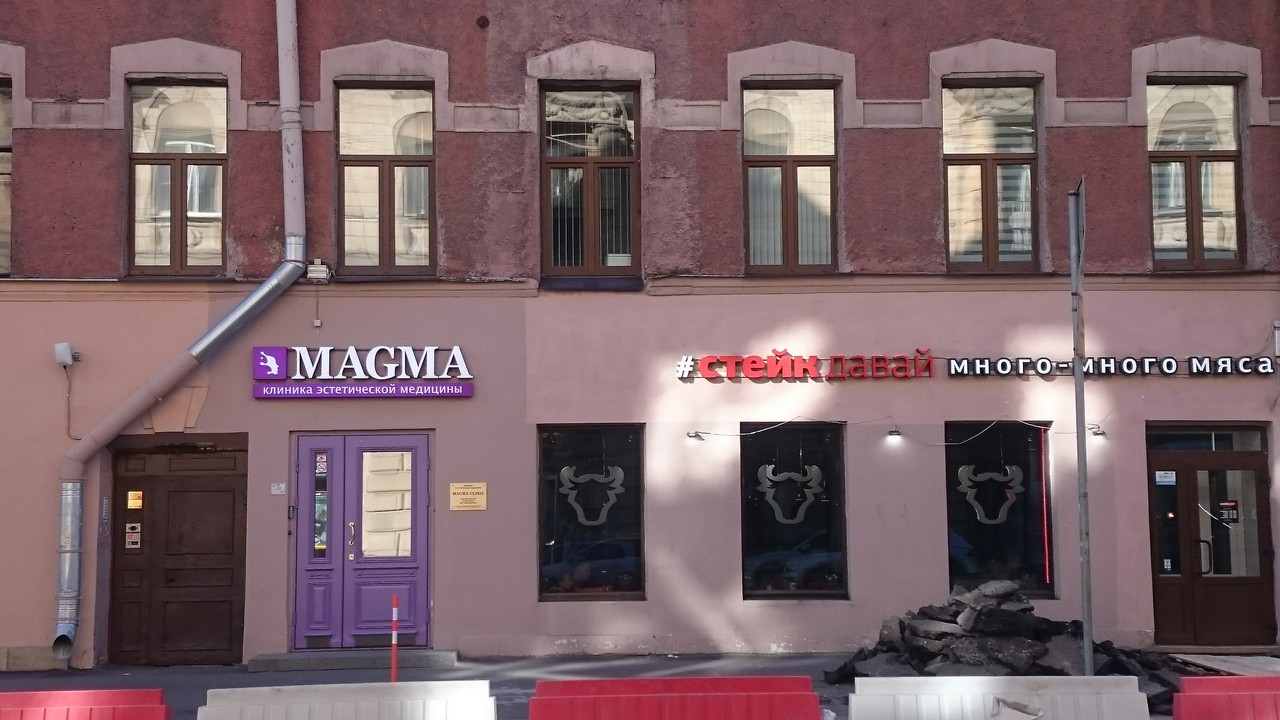door: (296, 434, 429, 650), (107, 448, 240, 664), (1182, 464, 1267, 646)
signboard: (679, 350, 1277, 378), (250, 347, 475, 395)
window: (539, 78, 640, 279), (127, 82, 227, 279), (947, 419, 1056, 599), (939, 82, 1041, 274), (536, 423, 645, 598), (1148, 78, 1245, 272), (745, 82, 837, 277), (340, 82, 432, 274), (743, 423, 844, 593)
